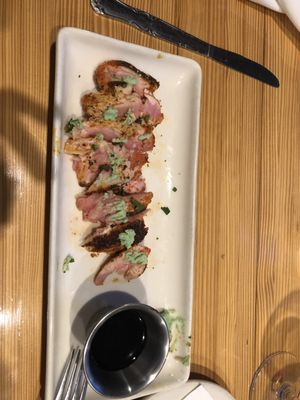curry: (118, 229, 136, 249)
sandwich: (89, 0, 281, 89)
